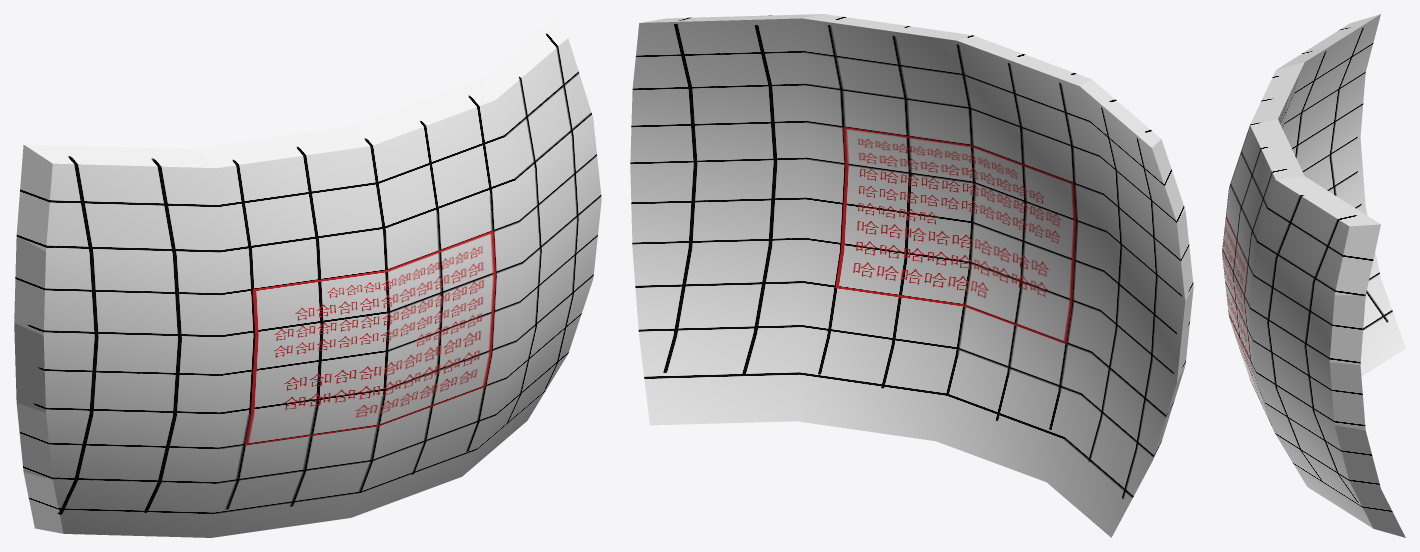
File: SphereScreen.fbx
The picture shows the model from 3 angles, left to right: view 1: azimuth 30°, elevation 25°; view 2: azimuth 150°, elevation 25°; view 3: azimuth 270°, elevation 25°; orthographic projection. The views are drawn at different scales.
Visible parts, largest first — view 1: SphereScreen; view 2: SphereScreen; view 3: SphereScreen.
Boxes of the visible parts, bbox=[...] form: SphereScreen: bbox=[14, 14, 601, 537]; SphereScreen: bbox=[630, 14, 1193, 537]; SphereScreen: bbox=[1222, 14, 1405, 537].
Size of the model in its own units: 1.41 by 0.9383 by 0.4826.
1 material, 1 textured.
